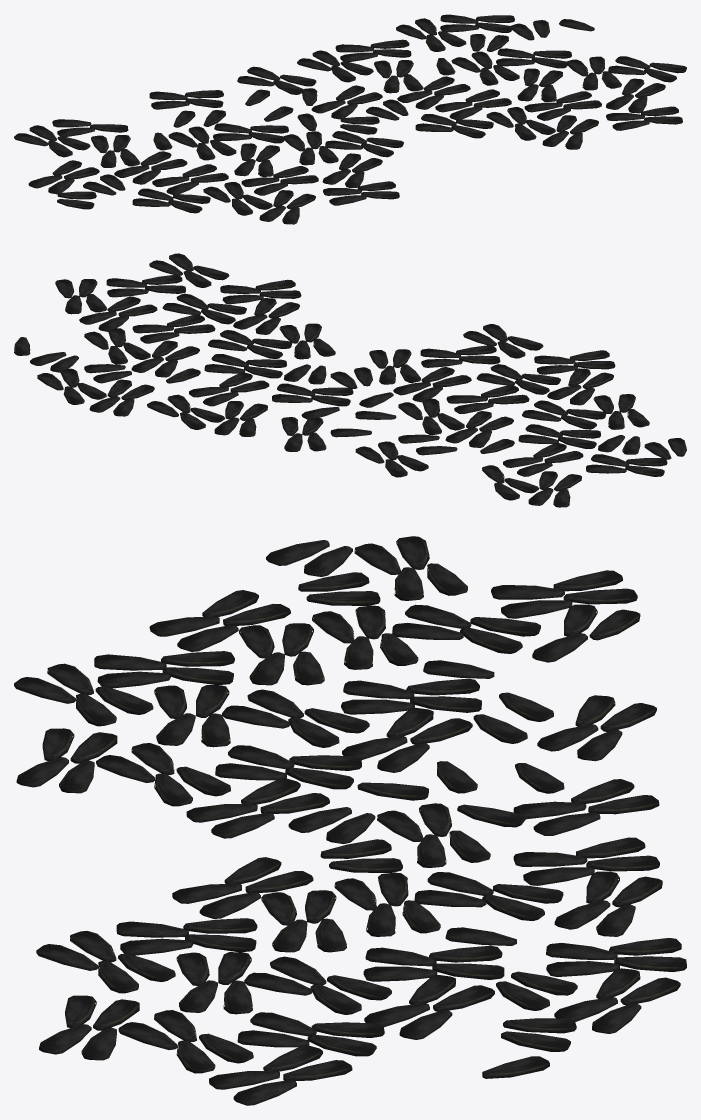
File: SemkiStack.fbx
3 renders of one model, top to bottom at view 1: azimuth 30°, elevation 25°; view 2: azimuth 150°, elevation 25°; view 3: azimuth 270°, elevation 25°, orthographic. The views are drawn at different scales.
Visible parts, largest first — view 1: no part large enough to name; view 2: no part large enough to name; view 3: Cube.161, Cube.075, Cube.200, Cube.120, Cube.103, Cube.117, Cube.034, Cube.164, Cube.030, Cube.082, Cube.102, Cube.166 (+132 smaller).
Part boxes in pixels (x1,y1,x2,y2): Cube.161: (183,918,257,933); Cube.075: (161,651,234,666); Cube.200: (503,1018,576,1033); Cube.120: (432,963,504,979); Cube.103: (306,591,380,605); Cube.117: (363,966,437,981); Cube.034: (410,696,481,712); Cube.164: (116,921,188,937); Cube.030: (341,699,414,714); Cube.082: (563,588,637,604); Cube.102: (298,572,369,591); Cube.166: (513,852,587,866).
Size of the model in its own units: 36.82 by 0.1359 by 18.48.
